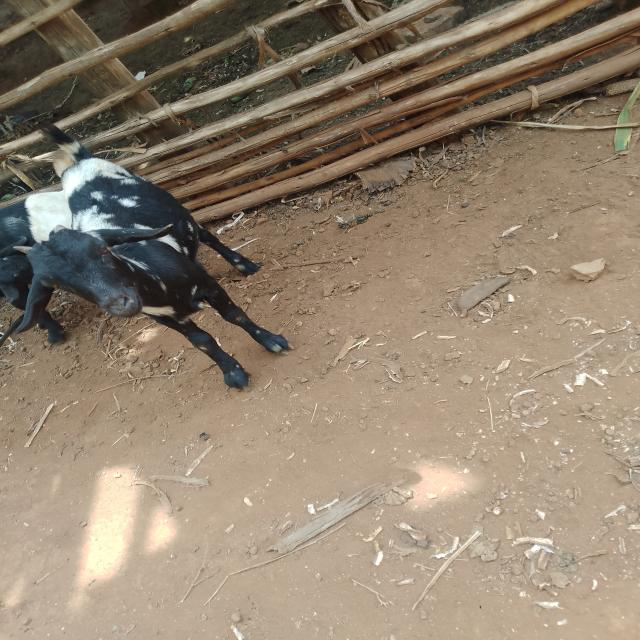goat: (0, 108, 349, 443)
